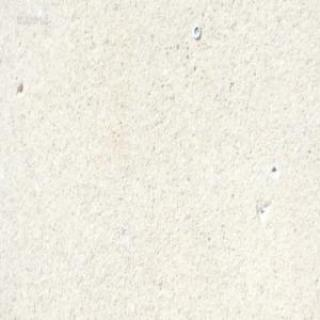Washertrack_idkeyframe: (192, 22, 200, 38)
